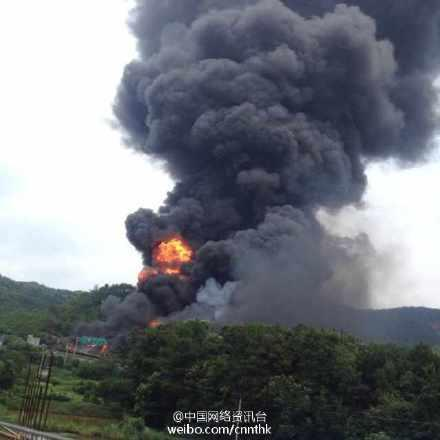fire: (133, 232, 203, 285)
smoke: (124, 2, 433, 207)
